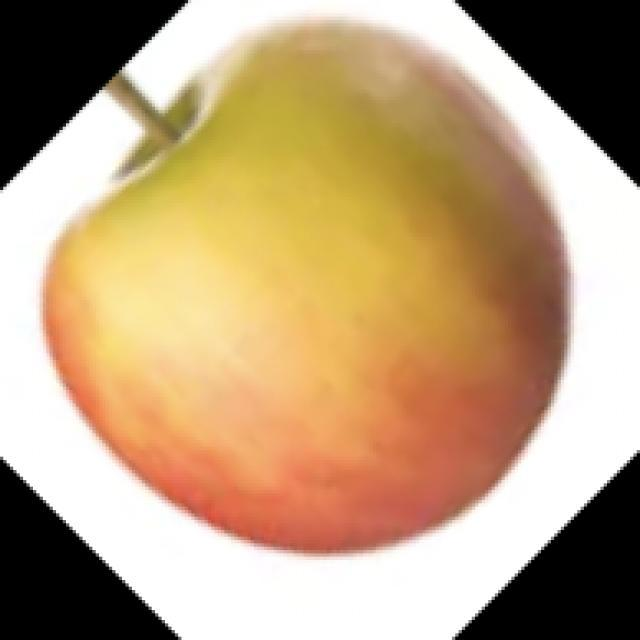Fresh Apple: (45, 18, 576, 550)
